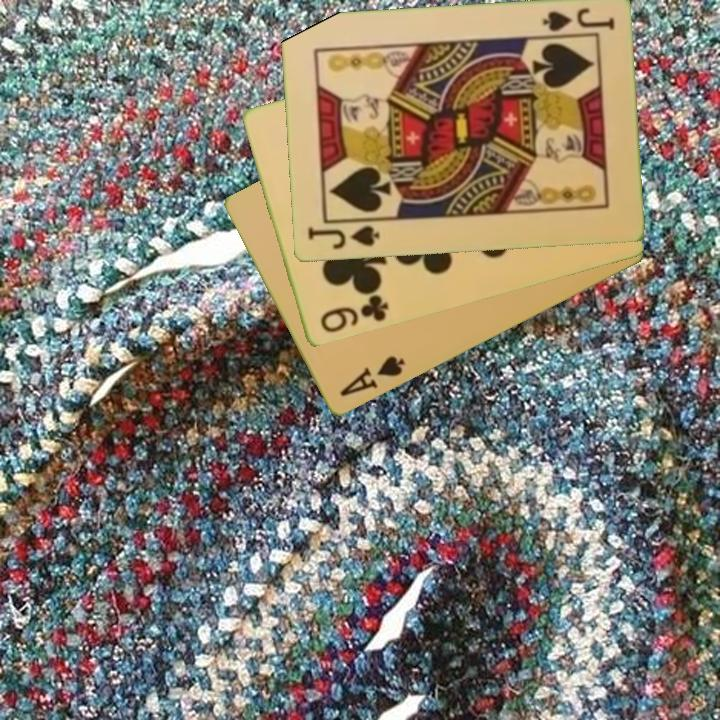9c: (316, 291, 392, 336)
As: (336, 352, 408, 401)
Js: (304, 222, 383, 253), (539, 4, 617, 35)
